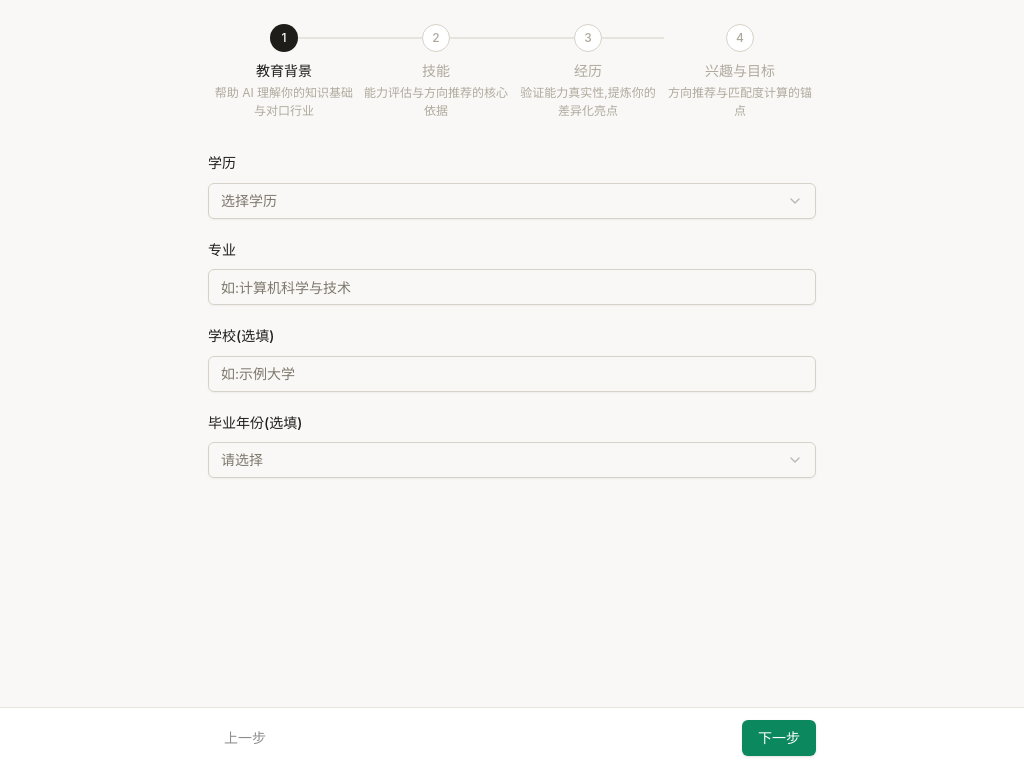
ProfileForm › 填写学历与专业后可进入技能步
The width and height of the screenshot is (1024, 768).
Click the dropdown labelled "学历": {"x": 249, "y": 200} [208,183,816,219]
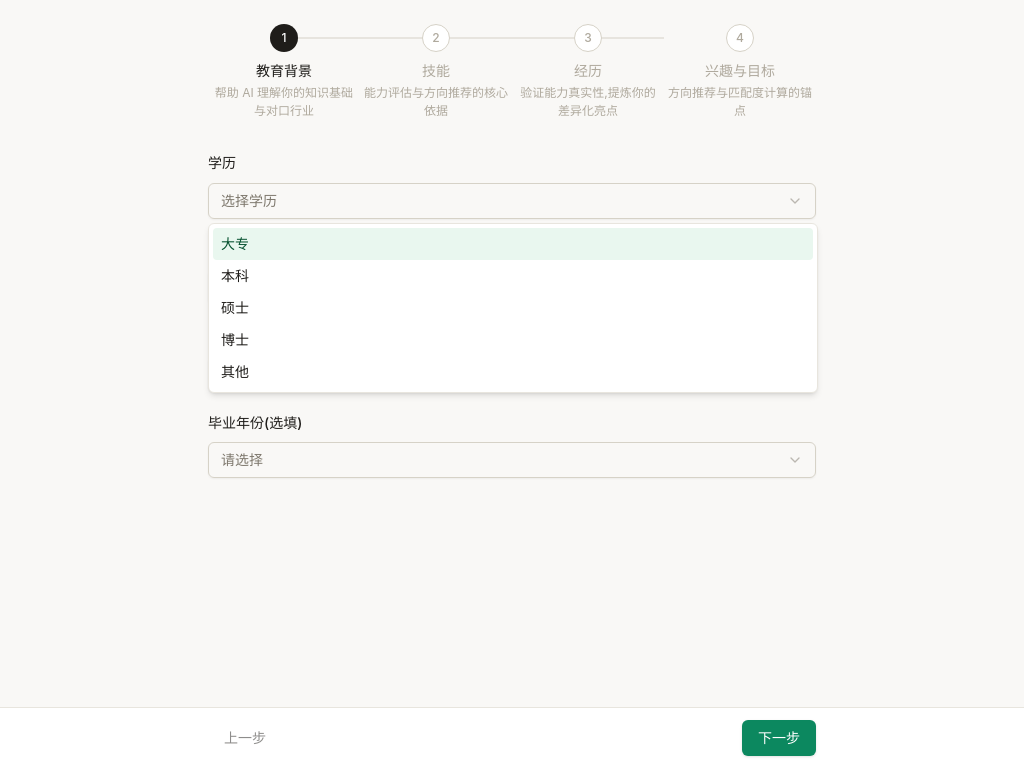
Click the option "本科": {"x": 235, "y": 276} [221,267,249,284]
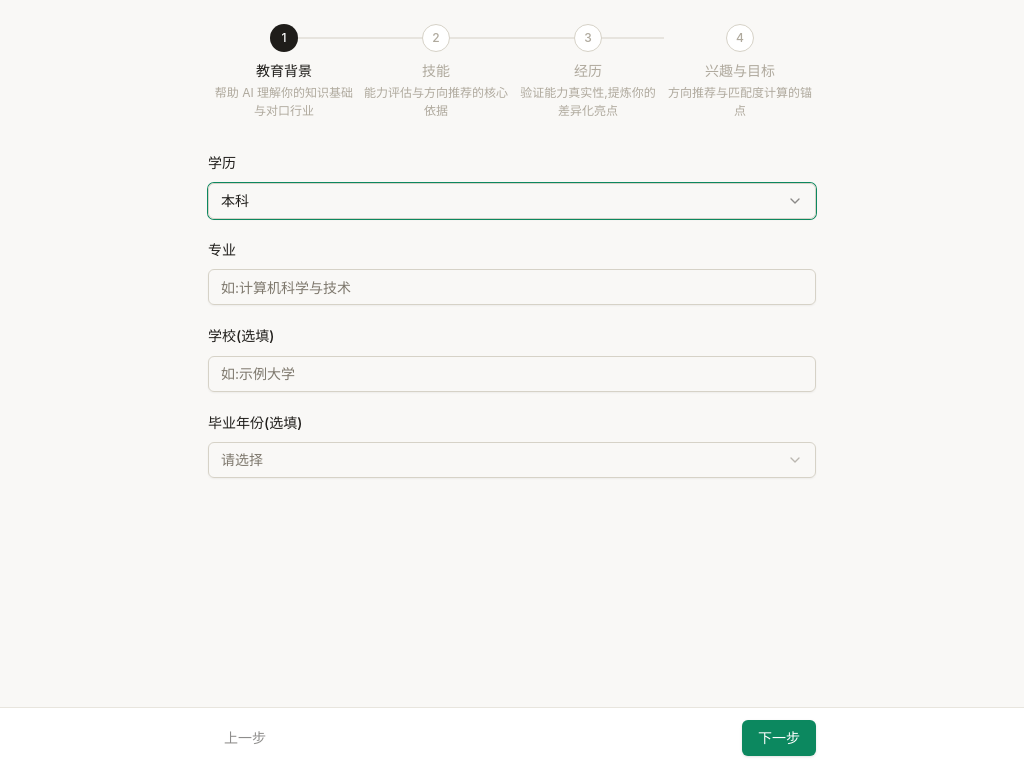
In the field labelled "专业": {"x": 512, "y": 287} [208,269,816,305], type "计算机科学与技术"
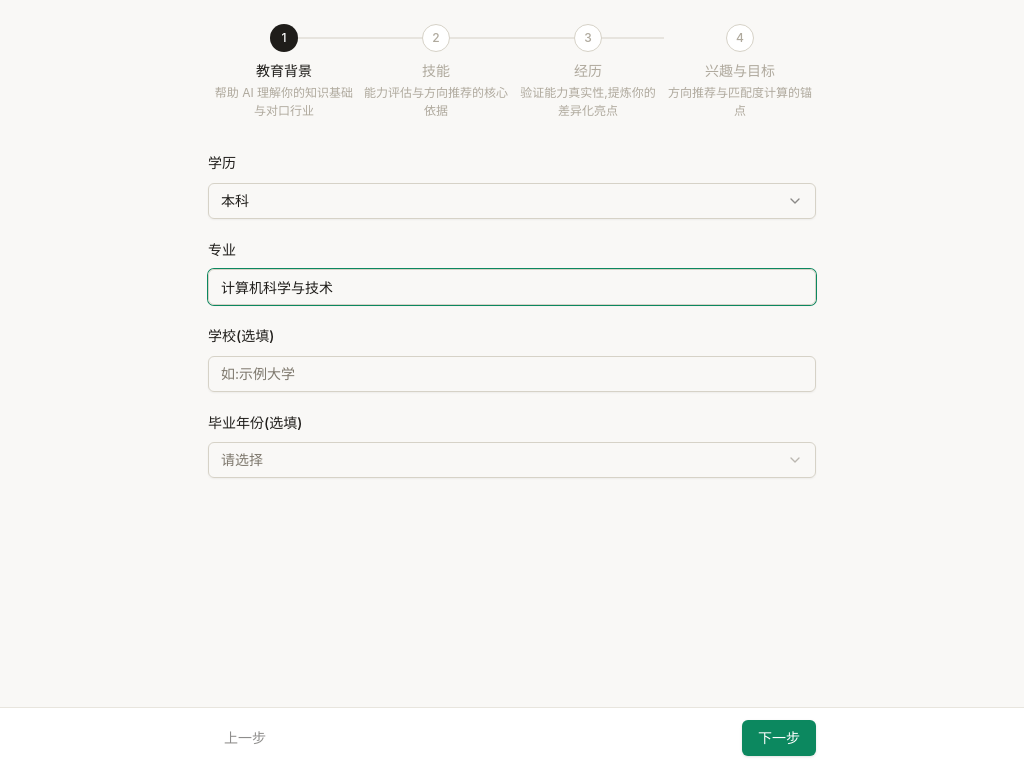
Click the button "下一步": {"x": 779, "y": 738} [742,720,816,756]
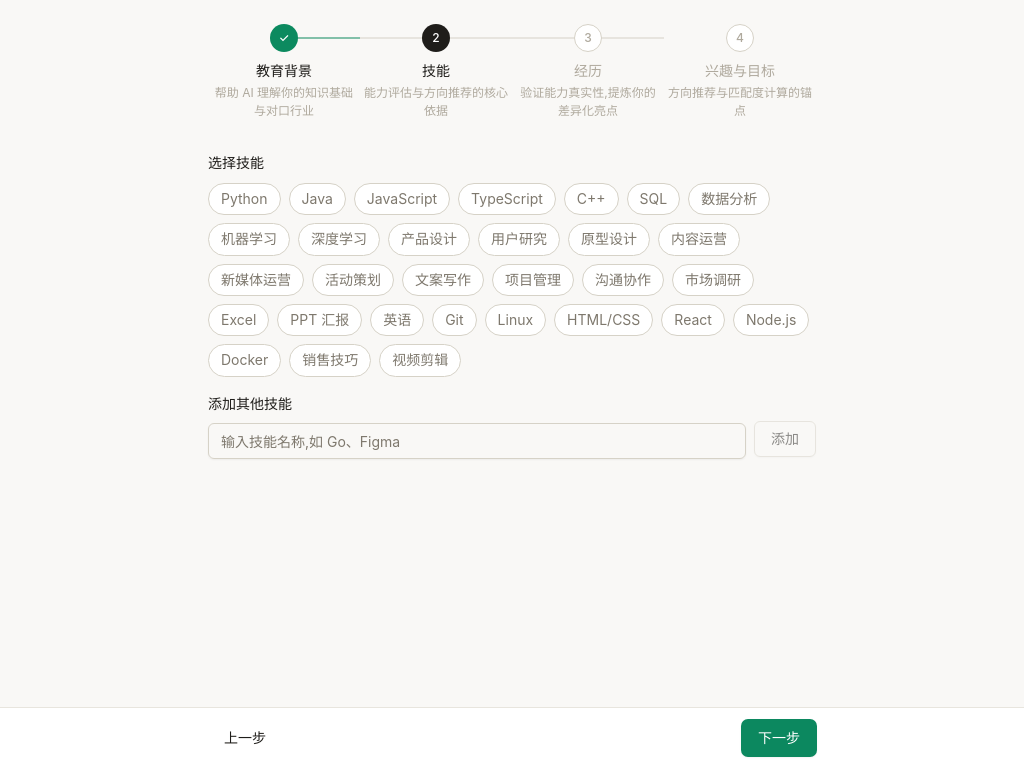
Check: the list item "2 技能 能力评估与方向推荐的核心依据" is shown, box [360,24,512,120]
Check: the text "选择技能" is shown, box [208,154,264,171]
